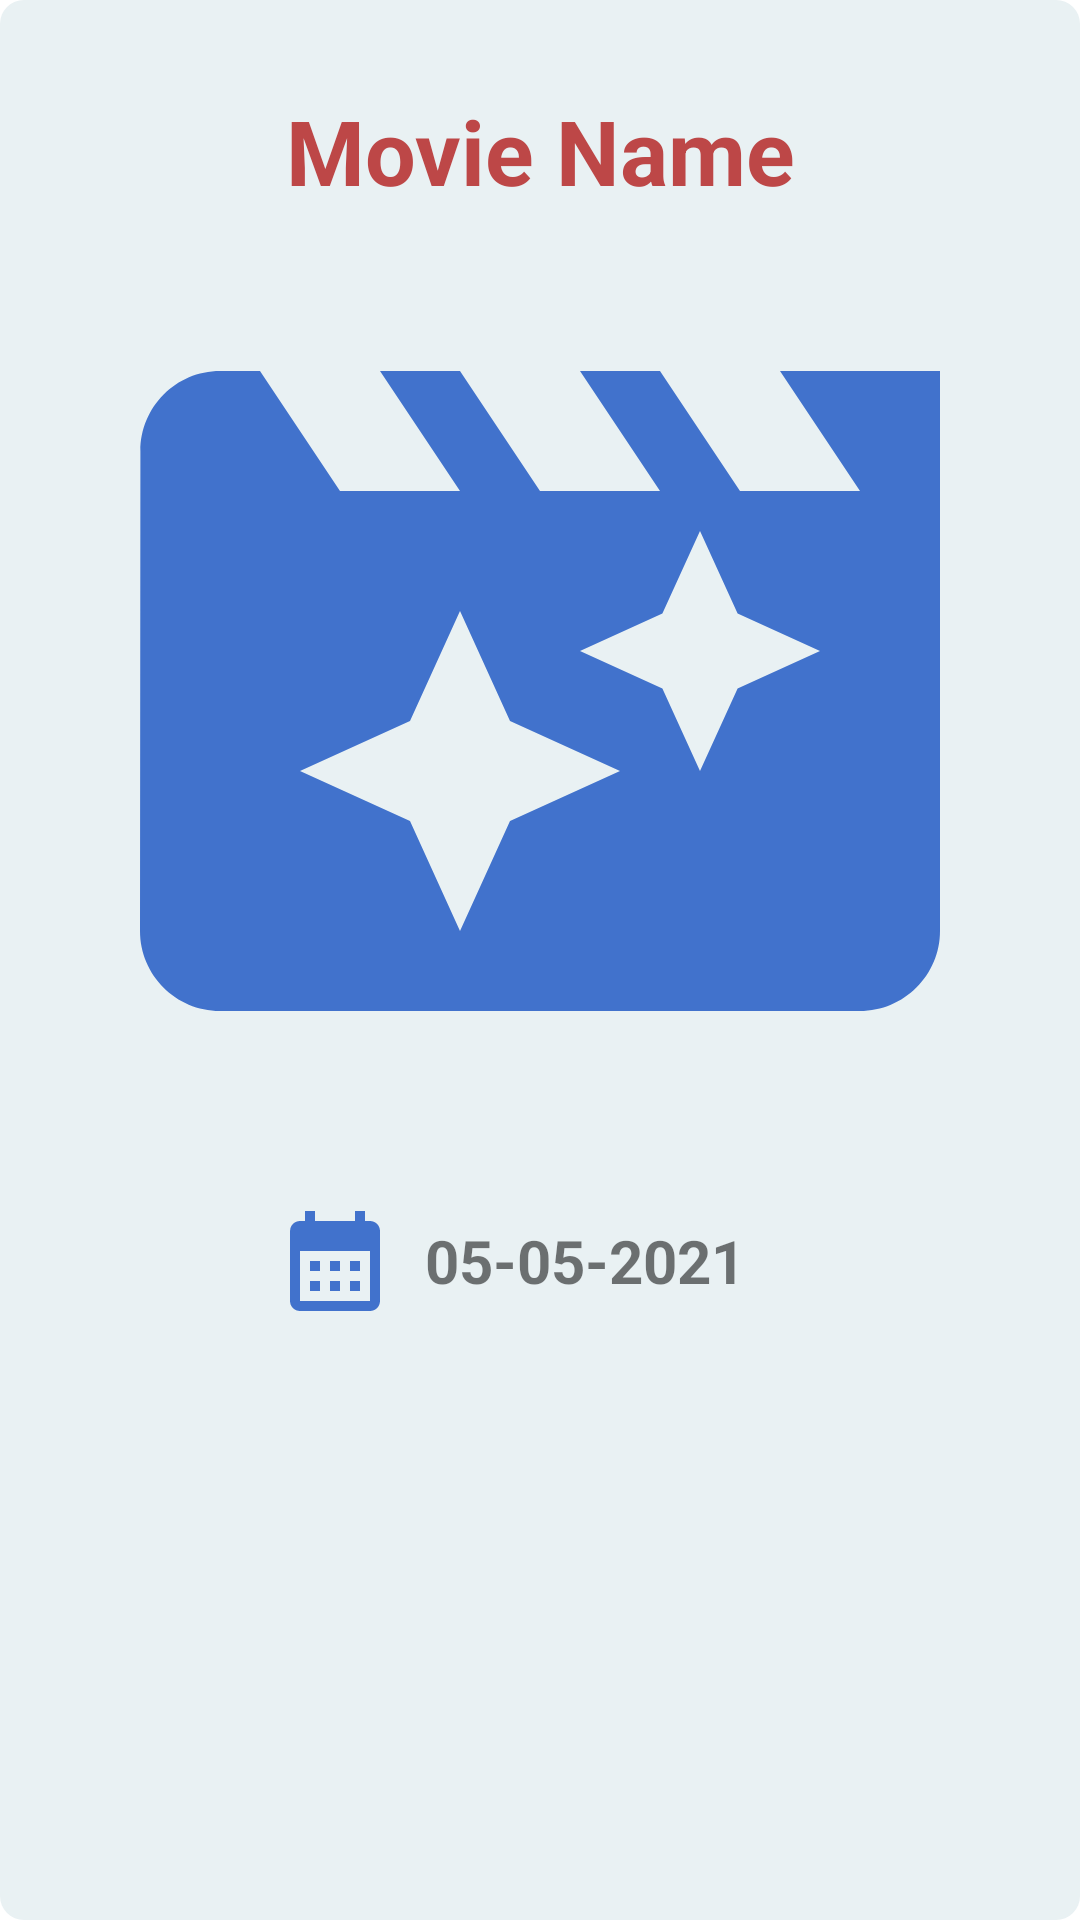

Locate icon controls on the screen. Image size 1080px×1920px, boxes as (x1, y1, x2, y2).
calendar month: (290, 1211, 380, 1311)
